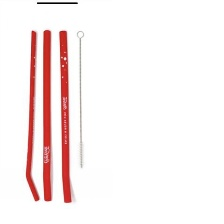drinking_straw: (56, 28, 75, 207), (22, 27, 41, 204), (39, 28, 53, 204)
